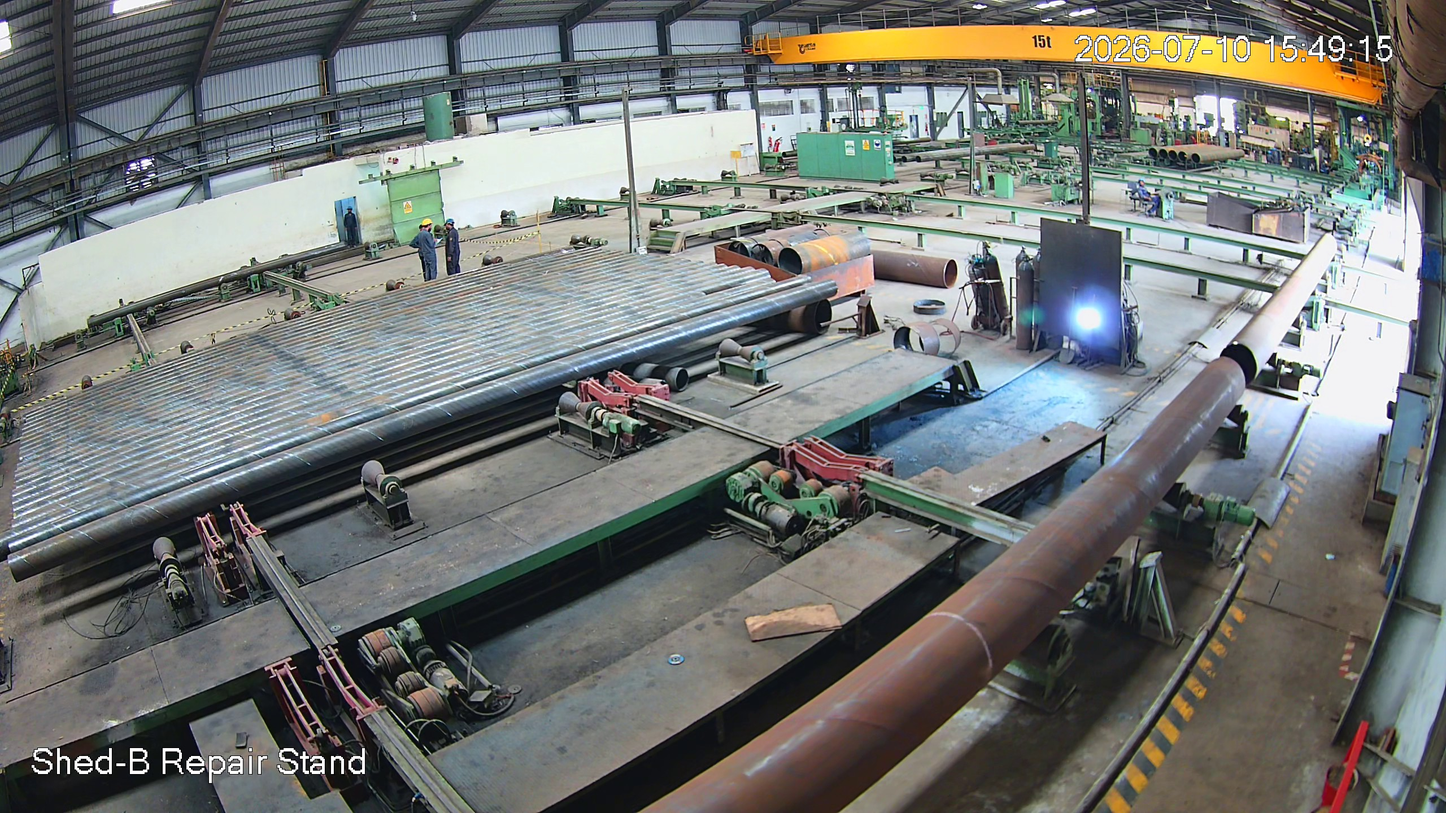Helmet: (420, 219, 437, 235), (443, 219, 458, 231)
Person: (419, 220, 438, 283), (443, 220, 463, 273)
